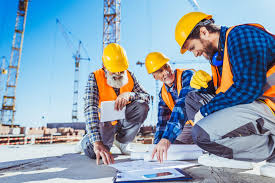hard hat: (175, 11, 213, 55), (102, 43, 129, 72), (145, 52, 170, 74)
high-vis: (211, 21, 275, 113), (92, 68, 135, 122), (161, 68, 194, 129)
